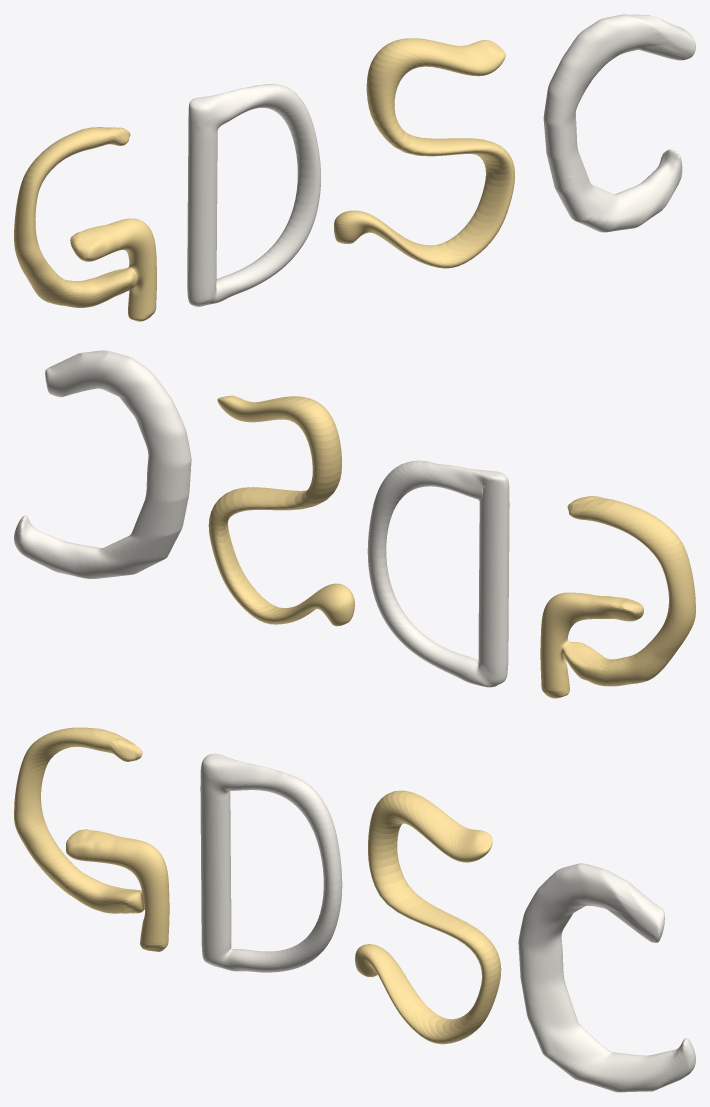
Rendered from gdsc.glb.
3 views of the same model, one above another, from view 1: azimuth 30°, elevation 25°; view 2: azimuth 150°, elevation 25°; view 3: azimuth 330°, elevation 25° (orthographic).
Visible parts, largest first — view 1: Cylinder (×4); view 2: Cylinder (×4); view 3: Cylinder (×4).
Boxes of the visible parts, x1,y1,x2,y2 form: Cylinder (×4): (14,14,695,321); Cylinder (×4): (14,350,695,698); Cylinder (×4): (14,727,695,1092).
Size of the model in its own units: 11.59 by 3.88 by 1.25.
